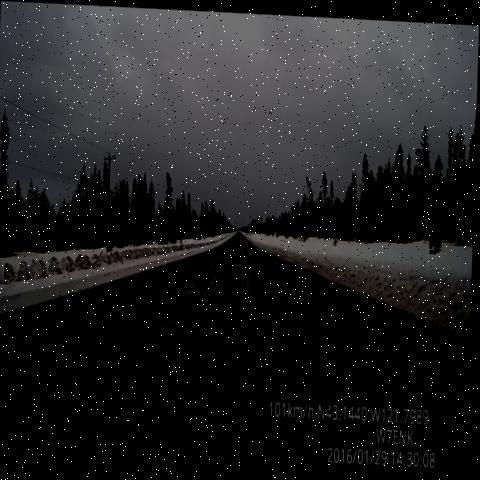pothole: (91, 380, 125, 421), (128, 336, 161, 376), (150, 307, 180, 344), (169, 277, 201, 310), (233, 236, 250, 258), (232, 254, 246, 273), (208, 256, 223, 273)
